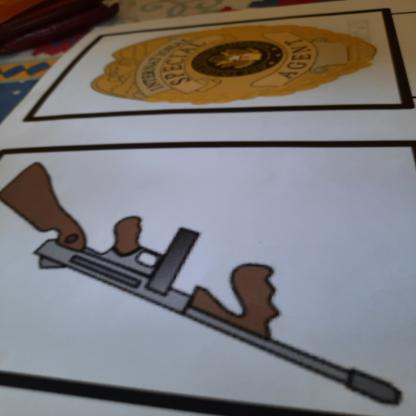Bootlegger: (1, 153, 412, 409)
G-man: (84, 20, 389, 111)
